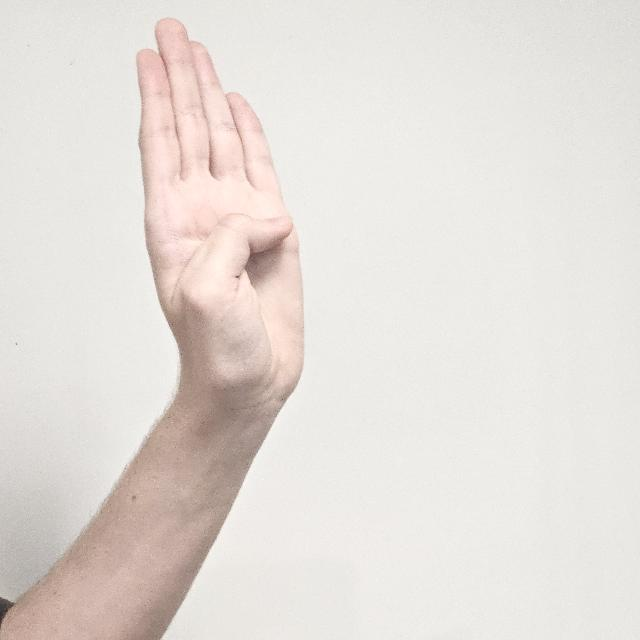Baixo: (126, 20, 314, 402)
